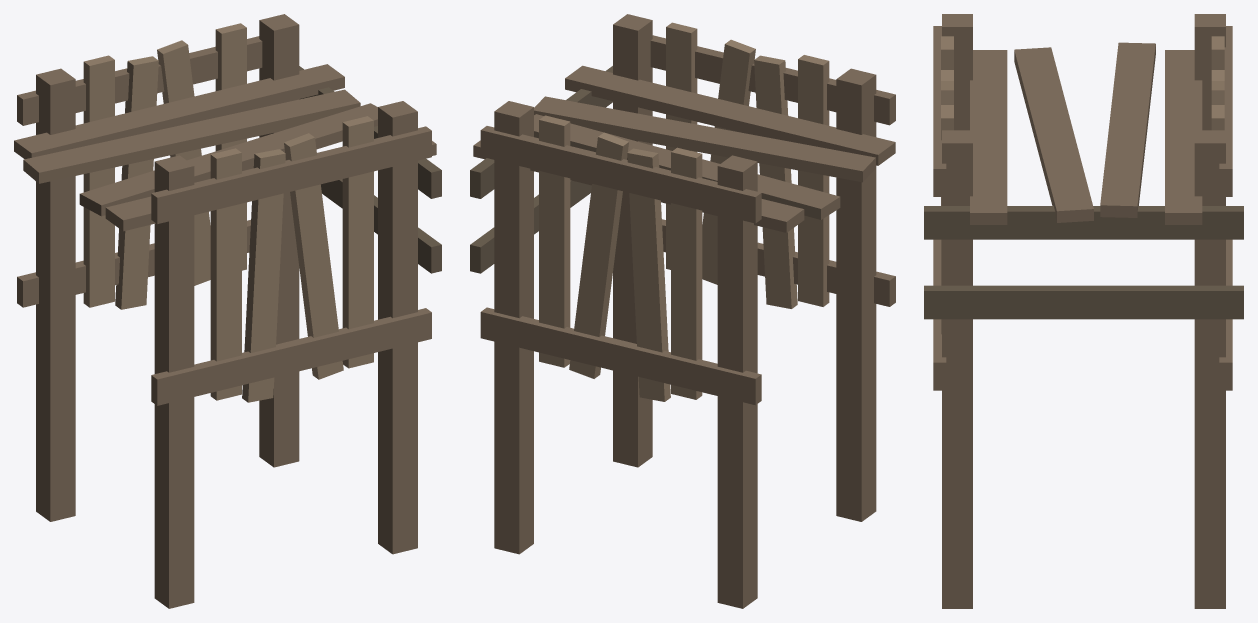
File: Ripiano.fbx
The picture shows the model from 3 angles, left to right: view 1: azimuth 30°, elevation 25°; view 2: azimuth 150°, elevation 25°; view 3: azimuth 270°, elevation 25°; orthographic projection. The views are drawn at different scales.
Visible parts, largest first — view 1: SM_Prop_Stack_07.003; view 2: SM_Prop_Stack_07.003; view 3: SM_Prop_Stack_07.003.
Part boxes in pixels (left/top/right/bottom): SM_Prop_Stack_07.003: left=14, top=14, right=441, bottom=608; SM_Prop_Stack_07.003: left=470, top=14, right=895, bottom=608; SM_Prop_Stack_07.003: left=924, top=14, right=1243, bottom=608.
Bounding box in the file's own units: 126 × 161 × 99.79.
1 material, 1 textured.
